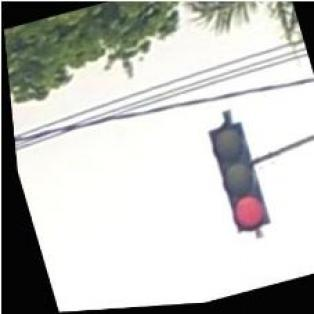Semaforo Rojo: (203, 124, 267, 238)
